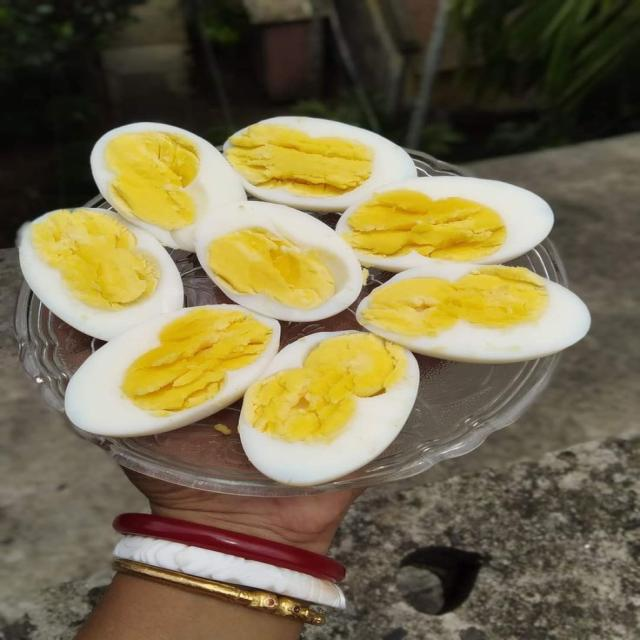eggs: (54, 121, 585, 464)
